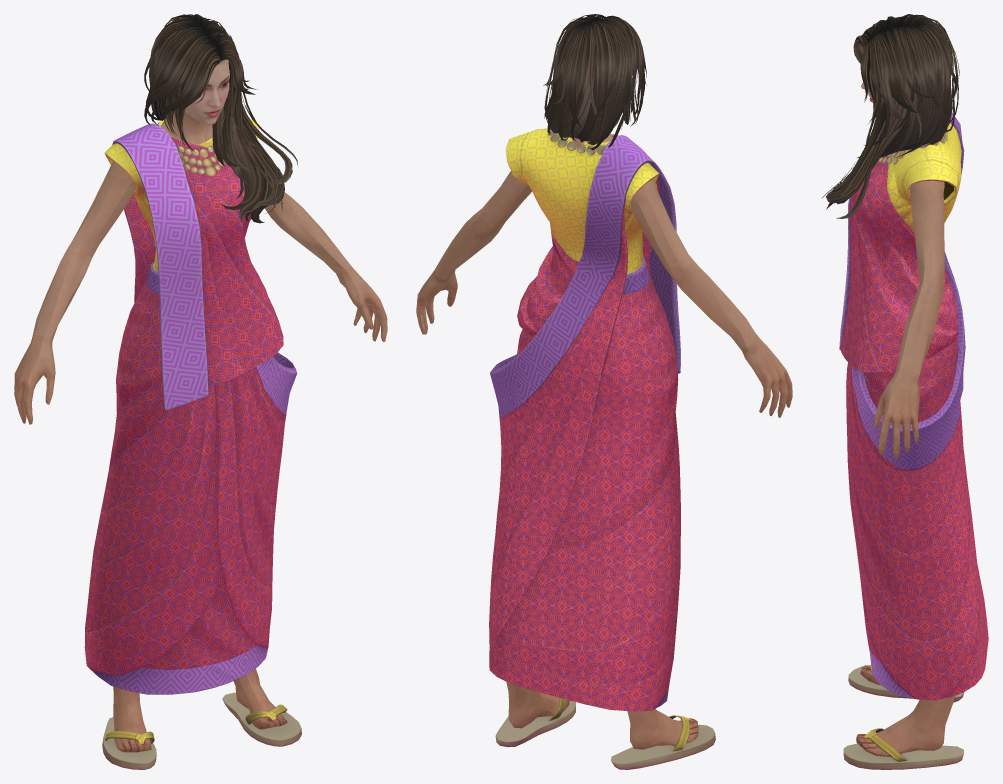
The model's file is women_1.2tlwod_fzu3ee.glb.
The picture shows the model from 3 angles, left to right: view 1: azimuth 30°, elevation 25°; view 2: azimuth 150°, elevation 25°; view 3: azimuth 270°, elevation 25°; orthographic projection. The views are drawn at different scales.
Parts seen in each view (by area): view 1: Object_4, Object_5, Object_2, Object_3; view 2: Object_4, Object_5, Object_2, Object_3; view 3: Object_4, Object_2, Object_5, Object_3.
Part boxes in pixels (bbox=[...]): Object_4: bbox=[84, 119, 297, 694]; Object_5: bbox=[14, 28, 387, 752]; Object_2: bbox=[144, 14, 298, 223]; Object_3: bbox=[102, 692, 301, 769]; Object_4: bbox=[489, 128, 680, 711]; Object_5: bbox=[416, 133, 792, 749]; Object_2: bbox=[543, 14, 646, 150]; Object_3: bbox=[495, 698, 715, 769]; Object_4: bbox=[839, 112, 988, 700]; Object_2: bbox=[822, 14, 959, 218]; Object_5: bbox=[856, 82, 955, 757]; Object_3: bbox=[843, 665, 964, 769].
Bounding box in the file's own units: 0.9397 × 1.76 × 0.3765.
4 materials, 4 textured.
